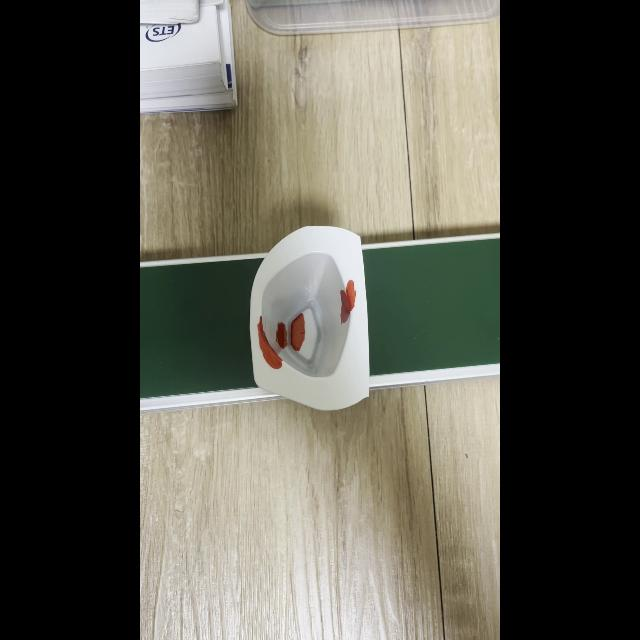dirty: (250, 254, 374, 392)
